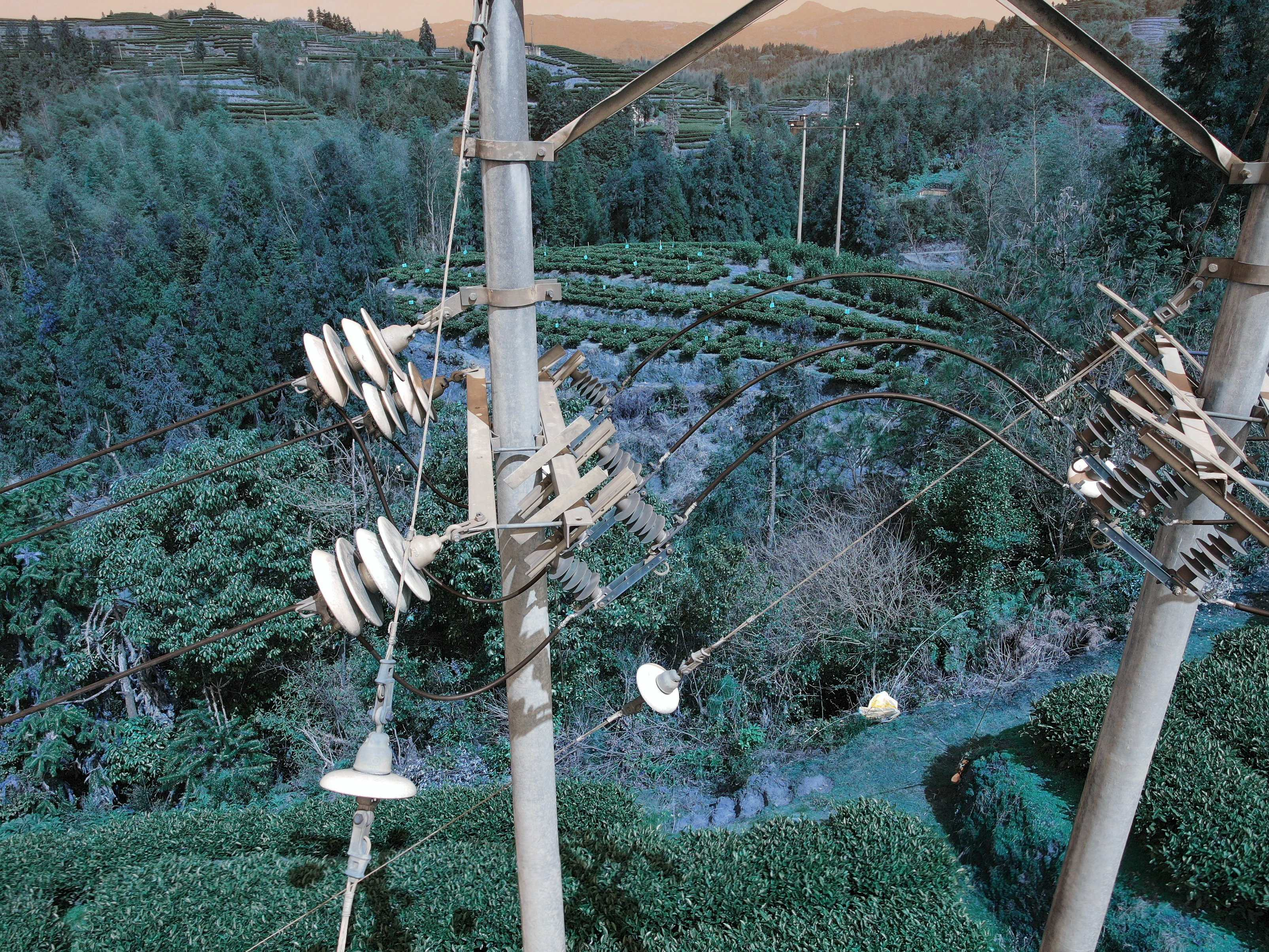severe_soiling_no_discharge_whole: (311, 515, 436, 635)
